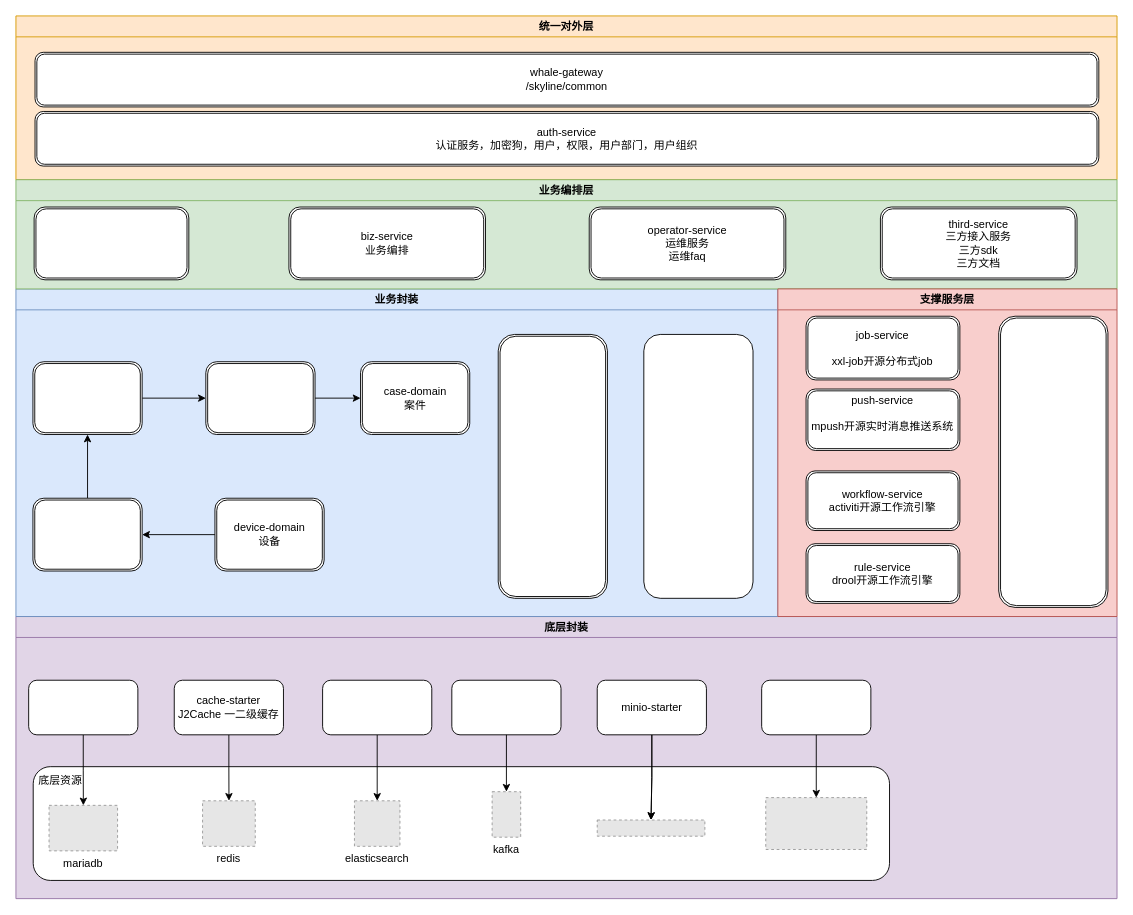
Some shapes in this 1133 by 915 pixel diagram are drawn without their labels. Grey dashed boxes stand in for pictures. The shapes that lost their labels are listed below. From the top down, each one's centre as x and y in pixels, then its label:
At [111,243]: "visual-dashboard-service echarts数据响应 大屏展示".
At [87,398]: "alarm-domain 告警管理".
At [260,398]: "event-domain 事件".
At [552,466]: "business-dict-service 业务字典维护 业务常量维护 业务开关维护".
At [698,466]: "log-starter 日志自动装配 统一日志前缀封装 统一链路追踪".
At [1053,461]: "nacos 服务配置中心".
At [87,534]: "task-domain 任务".
At [83,707]: "dao-starter".
At [377,707]: "elasticsearch-stater".
At [506,707]: "kafka-starter".
At [816,707]: "cassandra-starter".
